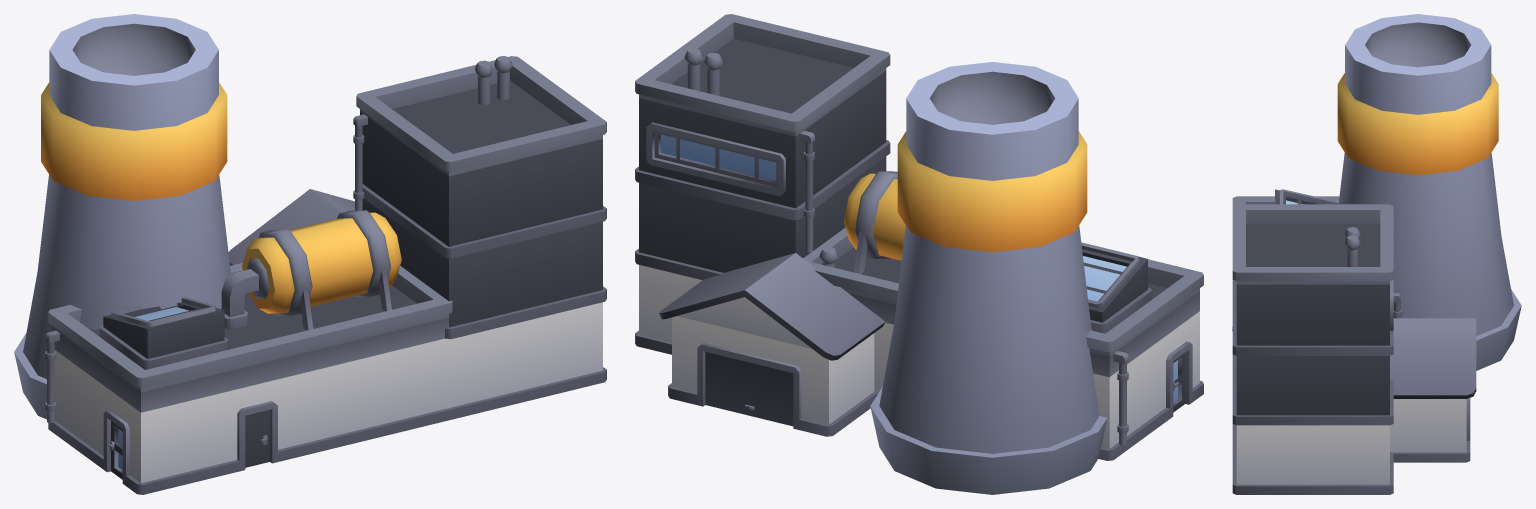
Rendered from factory_chimney.glb.
The picture shows the model from 3 angles, left to right: view 1: azimuth 30°, elevation 25°; view 2: azimuth 150°, elevation 25°; view 3: azimuth 270°, elevation 25°; orthographic projection. The views are drawn at different scales.
Visible parts, largest first — view 1: factory_chimney; view 2: factory_chimney; view 3: factory_chimney.
Boxes of the visible parts, x1=… form: factory_chimney: x1=14, y1=14, x2=606, y2=494; factory_chimney: x1=635, y1=14, x2=1203, y2=494; factory_chimney: x1=1232, y1=14, x2=1521, y2=494.
Bounding box in the file's own units: 29.8 × 20.4 × 18.11.
3 materials, 3 textured.
